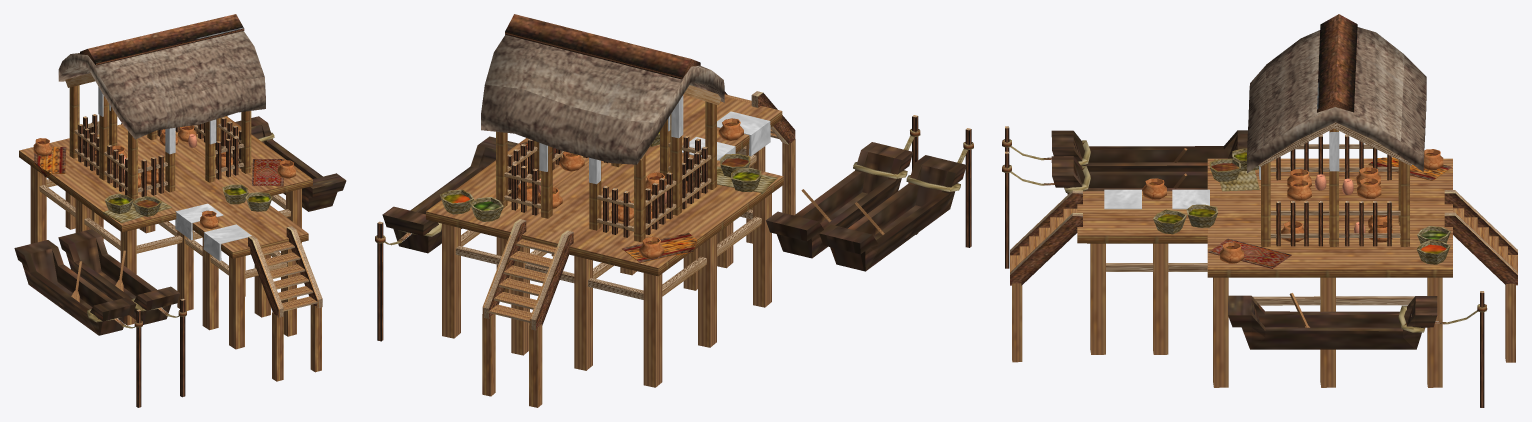
File: dock_1.dae
3 views of the same model, side by side, from view 1: azimuth 30°, elevation 25°; view 2: azimuth 150°, elevation 25°; view 3: azimuth 270°, elevation 25° (orthographic). The views are drawn at different scales.
Visible parts, largest first — view 1: doca_1; view 2: doca_1; view 3: doca_1.
Part boxes in pixels (x1,y1,x2,y2): doca_1: [14, 14, 346, 407]; doca_1: [375, 14, 973, 407]; doca_1: [1002, 14, 1517, 407].
Size of the model in its own units: 23.26 by 26.79 by 16.73.
